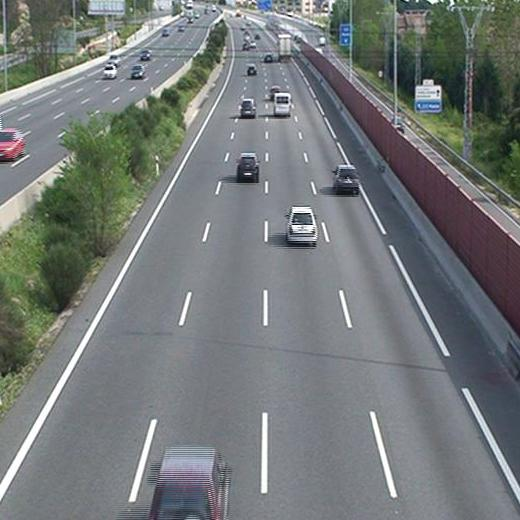car: (284, 207, 320, 244), (331, 165, 359, 192), (235, 153, 260, 183), (239, 99, 257, 118), (246, 63, 257, 77), (263, 53, 275, 63)
truck: (277, 35, 292, 62)
van: (272, 91, 292, 117)
